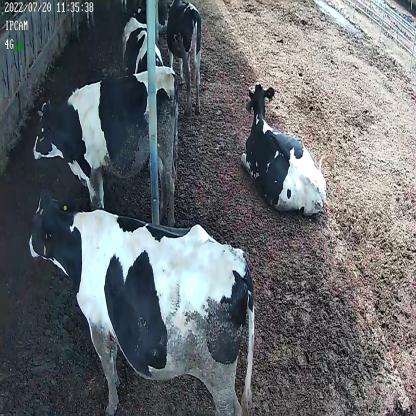cow: (27, 179, 256, 416), (31, 64, 180, 223), (240, 82, 327, 216), (166, 0, 204, 111)
